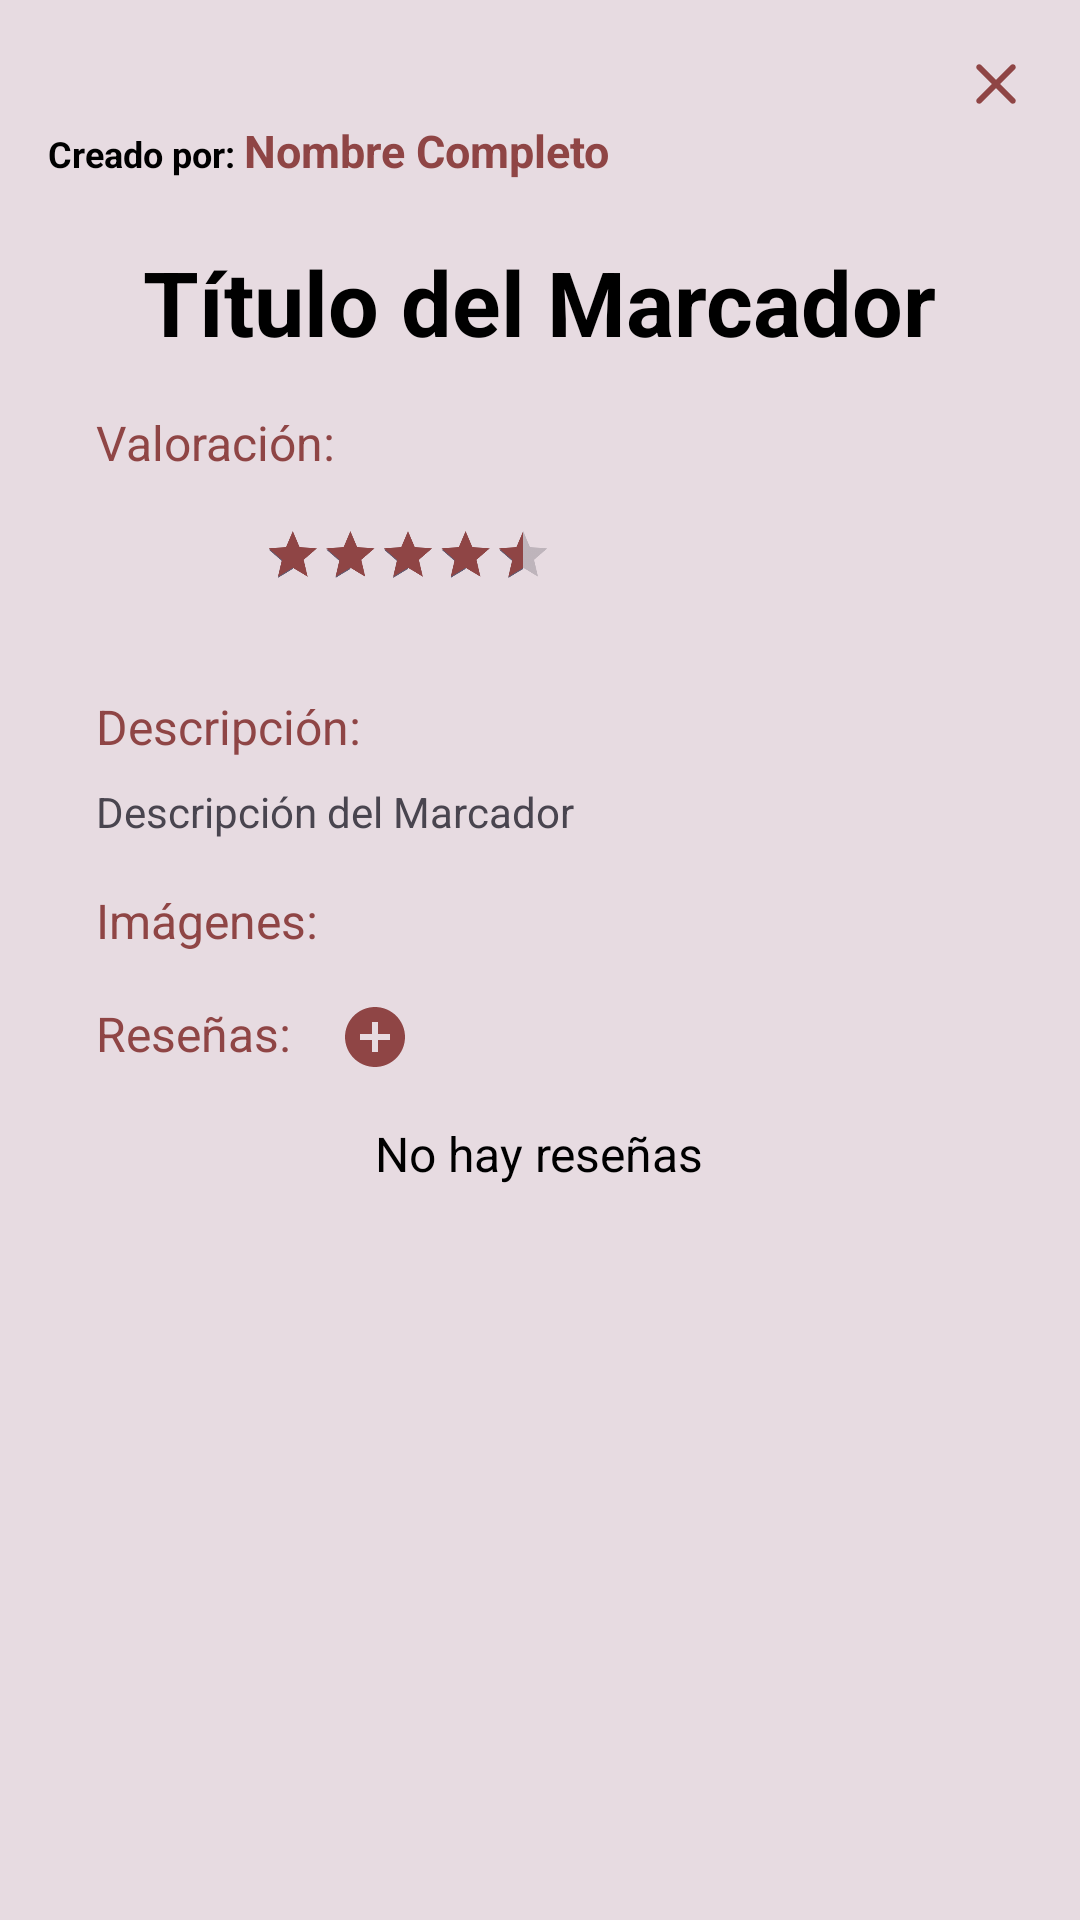

Screen size 1080px×1920px. Icon name, then its box in pixels as (x1, y1, x2, y2):
add circle: (345, 1007, 405, 1067)
close: (976, 64, 1016, 104)
